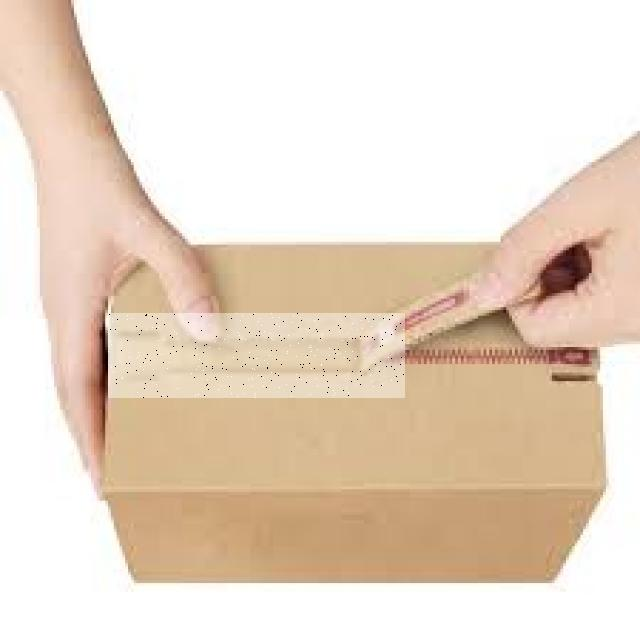tear: (108, 313, 404, 398)
